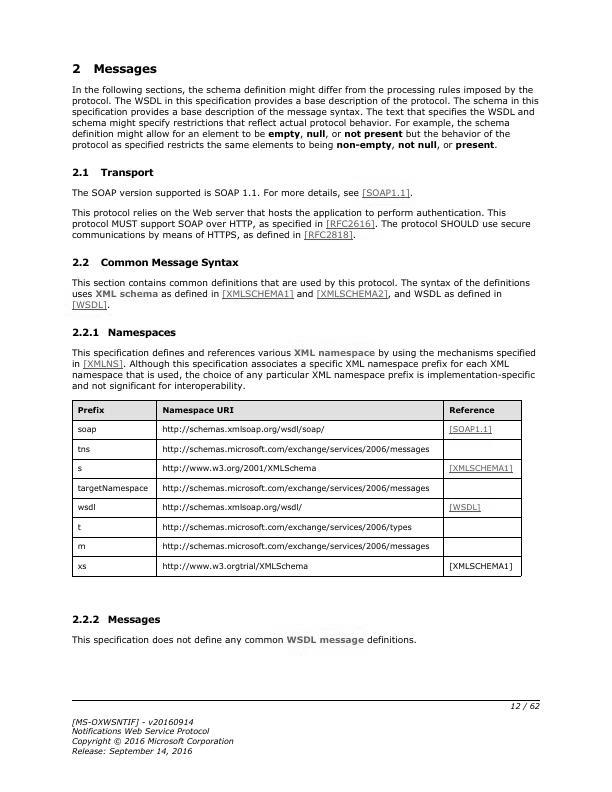table: (71, 398, 525, 581)
text: (68, 84, 542, 152), (68, 345, 537, 394), (66, 275, 530, 313), (68, 205, 533, 242), (68, 715, 235, 760), (70, 184, 413, 200), (72, 634, 419, 647), (66, 255, 241, 271), (70, 323, 176, 340), (71, 60, 163, 77), (70, 614, 161, 627), (66, 165, 154, 178)
